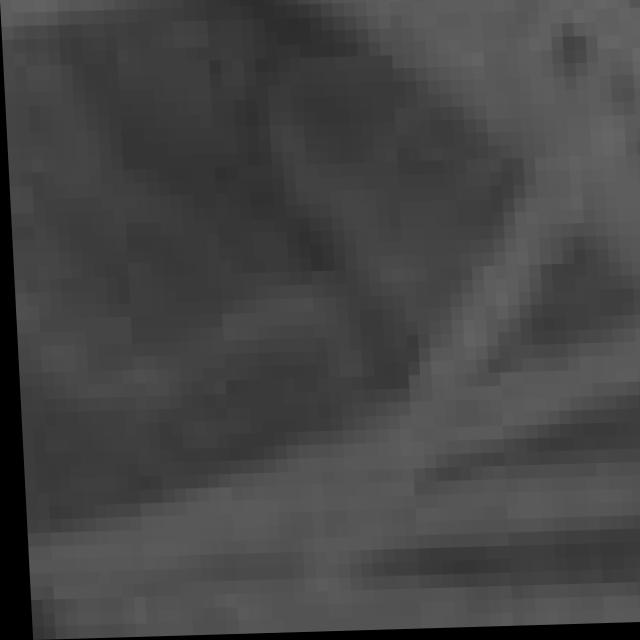fracture: (12, 0, 640, 638)
